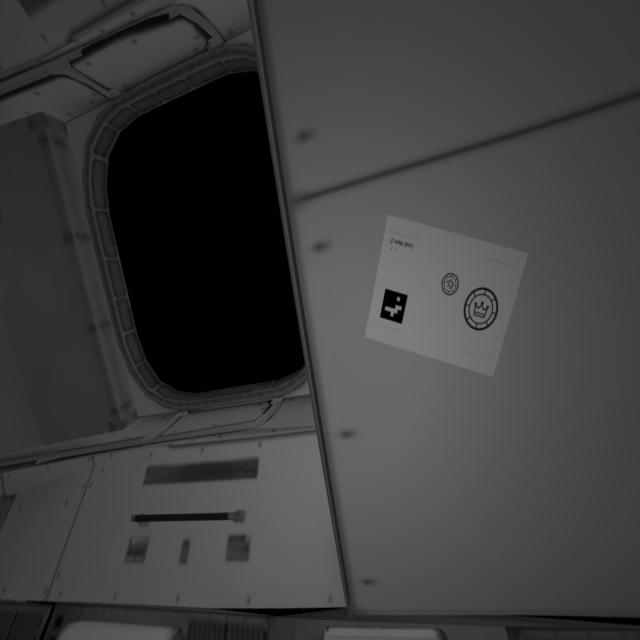coin: (460, 284, 504, 336), (437, 271, 464, 299)
